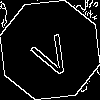V: (25, 25, 76, 81)
